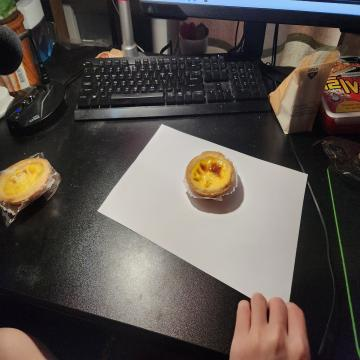EggTart: (186, 149, 236, 197)
